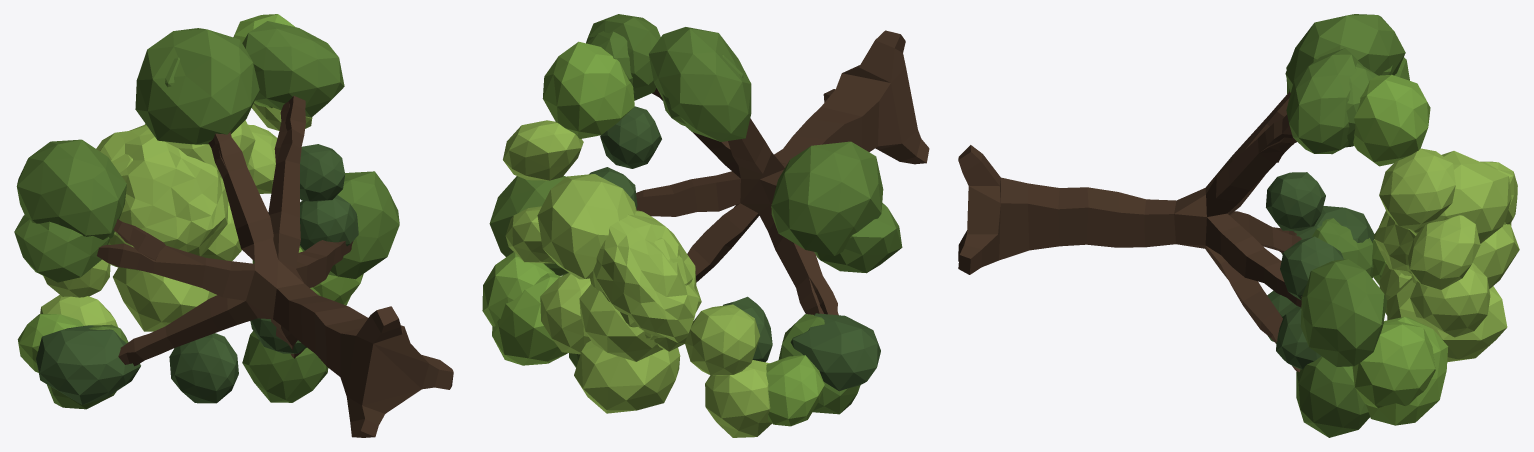
File: TreeOakGreenD1.fbx
3 views of the same model, side by side, from view 1: azimuth 30°, elevation 25°; view 2: azimuth 150°, elevation 25°; view 3: azimuth 270°, elevation 25° (orthographic).
Visible parts, largest first — view 1: M_Tree_Leaf_Mid, M_Tree_Bark, M_Tree_Leaf_Pale, M_Tree_Leaf_Dark, M_Tree_Leaf_Light; view 2: M_Tree_Leaf_Pale, M_Tree_Leaf_Mid, M_Tree_Bark, M_Tree_Leaf_Light, M_Tree_Leaf_Dark; view 3: M_Tree_Bark, M_Tree_Leaf_Mid, M_Tree_Leaf_Pale, M_Tree_Leaf_Light, M_Tree_Leaf_Dark.
Part boxes in pixels (x1,y1,x2,y2): M_Tree_Leaf_Mid: (14,21,399,409); M_Tree_Bark: (97,96,453,437); M_Tree_Leaf_Pale: (40,103,312,331); M_Tree_Leaf_Dark: (36,144,358,404); M_Tree_Leaf_Light: (17,14,363,372); M_Tree_Leaf_Pale: (503,120,771,437); M_Tree_Leaf_Mid: (489,14,902,414); M_Tree_Bark: (636,30,929,315); M_Tree_Leaf_Light: (482,41,824,426); M_Tree_Leaf_Dark: (589,106,880,391); M_Tree_Bark: (958,91,1301,372); M_Tree_Leaf_Mid: (1285,14,1409,437); M_Tree_Leaf_Pale: (1373,148,1519,362); M_Tree_Leaf_Light: (1352,74,1448,425); M_Tree_Leaf_Dark: (1266,172,1374,369).
Size of the model in its own units: 30.18 by 28.84 by 38.46.
